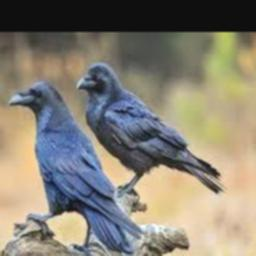Crow: (7, 81, 143, 256), (76, 61, 227, 199)
